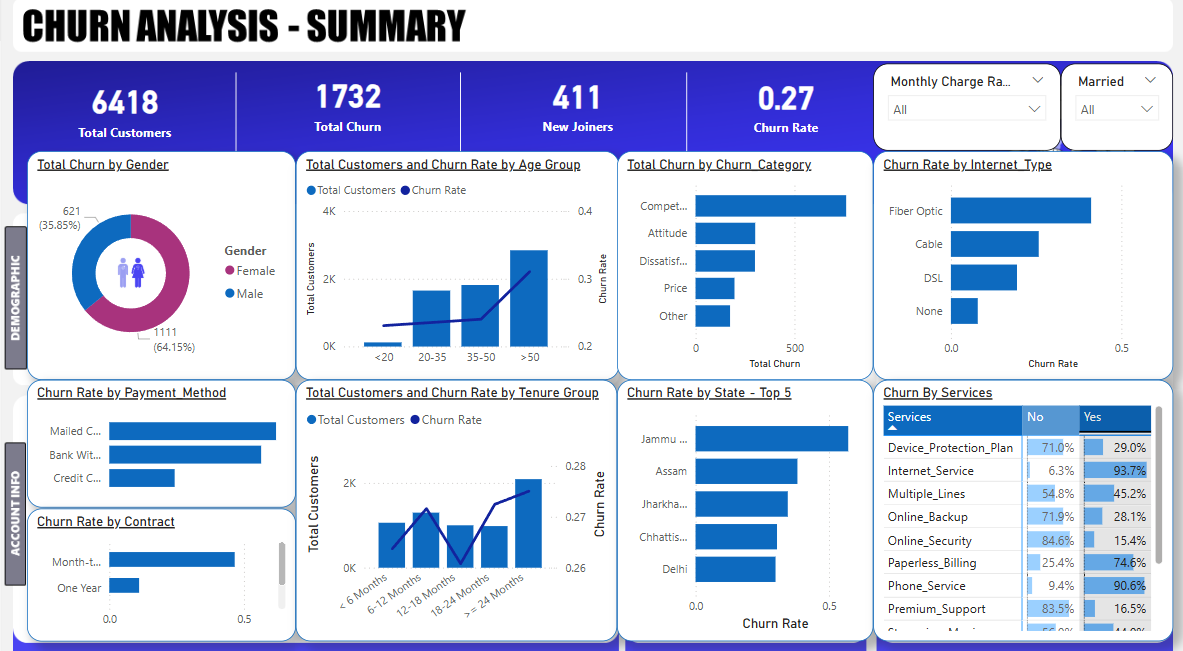

Layout of this report page (visuals, bound fields, positions):
{"tool":"powerbi","page":{"name":"Summary","canvas":[1280,720],"ordinal":0},"visuals":[{"type":"card","fields":{"Values":["dbl_measures.Total Customers"]},"box":[49.4,56.3,166,140],"z":0},{"type":"card","fields":{"Values":["dbl_measures.New Joiners"]},"box":[502.2,67.2,242.9,105.7],"z":1000},{"type":"card","fields":{"Values":["dbl_measures.Churn Rate"]},"box":[771.2,78.2,155.1,86.4],"z":2000},{"type":"card","fields":{"Values":["dbl_measures.Total Churn"]},"box":[301.9,49.4,145.5,140],"z":3000},{"type":"donutChart","fields":{"Category":["prod_Churn.Gender"],"Y":["dbl_measures.Total Churn"]},"box":[27.4,172.9,290.9,248.4],"z":4000},{"type":"lineStackedColumnComboChart","fields":{"Category":["mapping_AgeGrp.Age Group"],"Y":["dbl_measures.Total Customers"],"Y2":["dbl_measures.Churn Rate"]},"box":[318,173.2,350.5,247.7],"z":5000},{"type":"barChart","fields":{"Category":["prod_Churn.Payment_Method"],"Y":["dbl_measures.Churn Rate"]},"box":[27.4,421.3,290.9,138.6],"z":6000},{"type":"barChart","fields":{"Category":["prod_Churn.Contract"],"Y":["dbl_measures.Churn Rate"]},"box":[27.4,559.9,290.9,144.1],"z":7000},{"type":"lineStackedColumnComboChart","fields":{"Category":["mapping_TenureGrp.Tenure Group"],"Y":["dbl_measures.Total Customers"],"Y2":["dbl_measures.Churn Rate"]},"box":[318,420.9,347.8,282.9],"z":8000},{"type":"barChart","title":"Churn Rate by State - Top 5","fields":{"Category":["prod_Churn.State"],"Y":["dbl_measures.Churn Rate"]},"box":[665.9,420.9,277.4,282.9],"z":9000},{"type":"barChart","fields":{"Category":["prod_Churn.Churn_Category"],"Y":["dbl_measures.Total Churn"]},"box":[665.9,173.2,277.4,247.7],"z":10000},{"type":"barChart","fields":{"Category":["prod_Churn.Internet_Type"],"Y":["dbl_measures.Churn Rate"]},"box":[943.3,173.2,324.8,247.7],"z":11000},{"type":"image","box":[113.7,278.8,52.8,51.4],"z":11500},{"type":"pivotTable","title":"Churn By Services","fields":{"Rows":["ServiceValue.Services"],"Columns":["ServiceValue.Status"],"Values":["Sum(ServiceValue.Churn Status)"]},"box":[943.3,420.9,324.8,282.9],"z":12000},{"type":"slicer","fields":{"Values":["prod_Churn.Monthly Charge Status"]},"box":[943.3,78.5,203,94.7],"z":13000},{"type":"slicer","fields":{"Values":["prod_Churn.Married"]},"box":[1146.3,78.5,121.8,94.7],"z":14000}]}

Visuals, with their boxes in screenshot pixels (x1, y1, x2, y2), scaled from the page's 1280x720 canvas onto the 1183x651 screenshot:
card - dbl_measures.Total Customers: x1=46 y1=51 x2=199 y2=177
card - dbl_measures.New Joiners: x1=464 y1=61 x2=689 y2=156
card - dbl_measures.Churn Rate: x1=713 y1=71 x2=856 y2=149
card - dbl_measures.Total Churn: x1=279 y1=45 x2=413 y2=171
donutChart - prod_Churn.Gender x dbl_measures.Total Churn: x1=25 y1=156 x2=294 y2=381
lineStackedColumnComboChart - mapping_AgeGrp.Age Group x dbl_measures.Total Customers: x1=294 y1=157 x2=618 y2=381
barChart - prod_Churn.Payment_Method x dbl_measures.Churn Rate: x1=25 y1=381 x2=294 y2=506
barChart - prod_Churn.Contract x dbl_measures.Churn Rate: x1=25 y1=506 x2=294 y2=637
lineStackedColumnComboChart - mapping_TenureGrp.Tenure Group x dbl_measures.Total Customers: x1=294 y1=381 x2=615 y2=636
"Churn Rate by State - Top 5" barChart: x1=615 y1=381 x2=872 y2=636
barChart - prod_Churn.Churn_Category x dbl_measures.Total Churn: x1=615 y1=157 x2=872 y2=381
barChart - prod_Churn.Internet_Type x dbl_measures.Churn Rate: x1=872 y1=157 x2=1172 y2=381
image: x1=105 y1=252 x2=154 y2=299
"Churn By Services" pivotTable: x1=872 y1=381 x2=1172 y2=636
slicer - prod_Churn.Monthly Charge Status: x1=872 y1=71 x2=1059 y2=157
slicer - prod_Churn.Married: x1=1059 y1=71 x2=1172 y2=157
